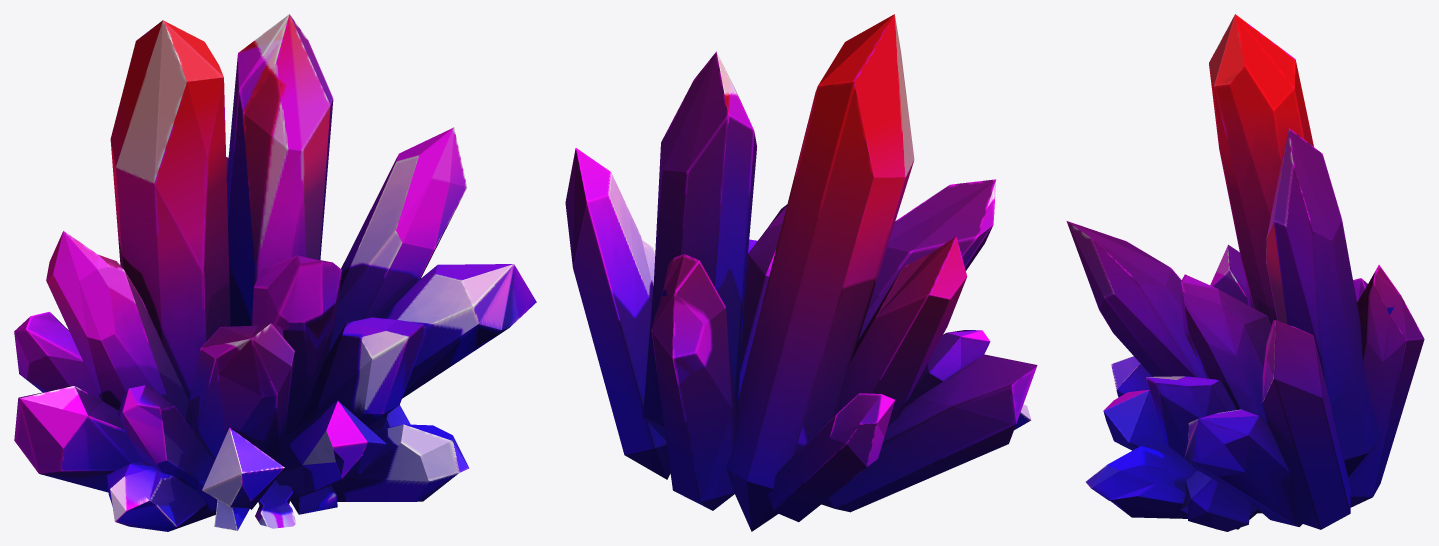
The model's file is 111crystal.fbx.
The picture shows the model from 3 angles, left to right: view 1: azimuth 30°, elevation 25°; view 2: azimuth 150°, elevation 25°; view 3: azimuth 270°, elevation 25°; orthographic projection. The views are drawn at different scales.
Visible parts, largest first — view 1: crystal17_2; view 2: crystal17_2; view 3: crystal17_2.
Boxes of the visible parts, x1=… form: crystal17_2: x1=14, y1=14, x2=536, y2=531; crystal17_2: x1=565, y1=14, x2=1037, y2=531; crystal17_2: x1=1066, y1=14, x2=1424, y2=531.
Bounding box in the file's own units: 549 × 553 × 398.
1 material, 1 textured.
